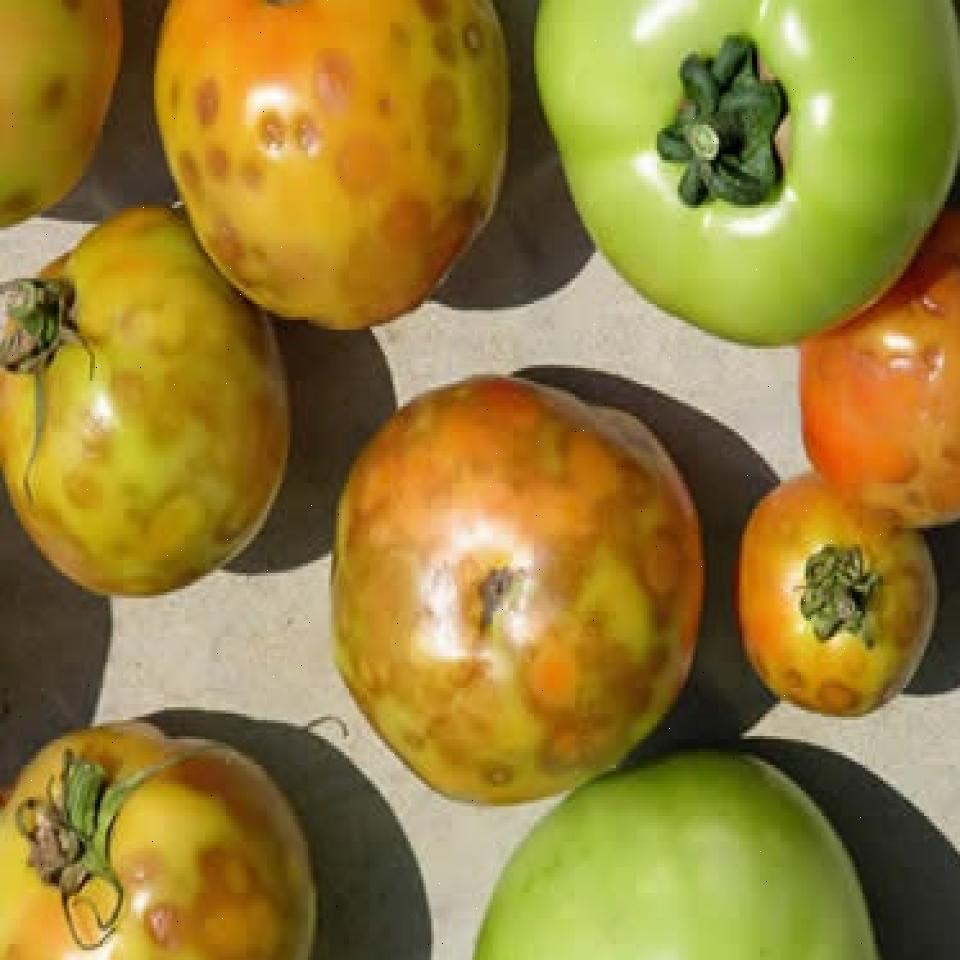Spotted wilt Virus: (331, 374, 703, 803), (151, 0, 511, 330), (0, 202, 290, 595), (3, 723, 318, 960), (801, 208, 960, 525), (737, 470, 937, 717)
